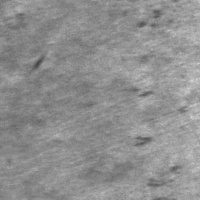rolled-in_scale: (119, 81, 185, 192), (129, 0, 184, 28)
